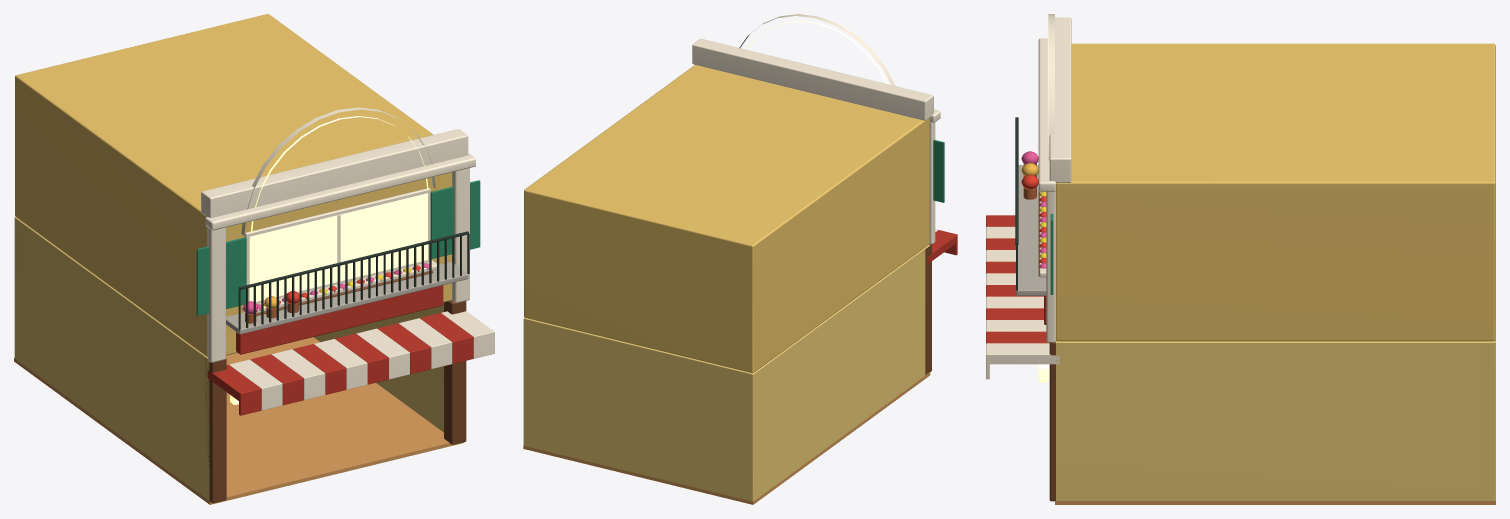
Rendered from shop_open_6.glb.
The picture shows the model from 3 angles, left to right: view 1: azimuth 30°, elevation 25°; view 2: azimuth 150°, elevation 25°; view 3: azimuth 270°, elevation 25°; orthographic projection. The views are drawn at different scales.
Parts seen in each view (by area): view 1: UpShell, WallL, Floor, UWGlass, UpPar, SignBoard, UCornice, WallR, UBSlab, Pillar1, UPil-0.06, UWShut (+27 smaller); view 2: UpShell, WallBack, WallL, UpPar, Floor, Pillar1, UWShut, UPil-0.06, UWArch, Awn0; view 3: UpShell, WallR, UpPar, UBSlab, Floor, UCornice, WallBack, Awn11, UPil5.7, Pillar2, UWArch, Awn10 (+3 smaller).
Part boxes in pixels (<box>): UpShell: <box>15,14,451,357</box>; WallL: <box>14,217,209,500</box>; Floor: <box>14,337,464,504</box>; UWGlass: <box>249,193,427,301</box>; UpPar: <box>201,129,468,217</box>; SignBoard: <box>236,285,443,354</box>; UCornice: <box>205,153,475,230</box>; WallR: <box>314,302,443,432</box>; UBSlab: <box>226,262,468,334</box>; Pillar1: <box>205,358,226,503</box>; UPil-0.06: <box>207,227,225,362</box>; UWShut: <box>196,237,246,315</box>; UpShell: <box>524,65,929,373</box>; WallBack: <box>523,318,757,501</box>; WallL: <box>746,245,929,500</box>; UpPar: <box>692,38,933,120</box>; Floor: <box>523,372,930,504</box>; Pillar1: <box>925,244,931,374</box>; UWShut: <box>933,139,944,202</box>; UPil-0.06: <box>929,121,935,244</box>; UWArch: <box>739,14,895,86</box>; Awn0: <box>928,231,956,263</box>; UpShell: <box>1056,43,1495,341</box>; WallR: <box>1055,340,1495,500</box>; UpPar: <box>1049,17,1071,182</box>; UBSlab: <box>1016,165,1046,295</box>; Floor: <box>1055,501,1495,504</box>; UCornice: <box>1038,38,1055,191</box>; WallBack: <box>1486,340,1495,500</box>; Awn11: <box>989,343,1059,364</box>; UPil5.7: <box>1046,190,1055,342</box>; Pillar2: <box>1049,342,1055,501</box>; UWArch: <box>1048,14,1054,160</box>; Awn10: <box>989,331,1049,343</box>.
Bounding box in the file's own units: 6.67 × 8.2 × 9.25.
